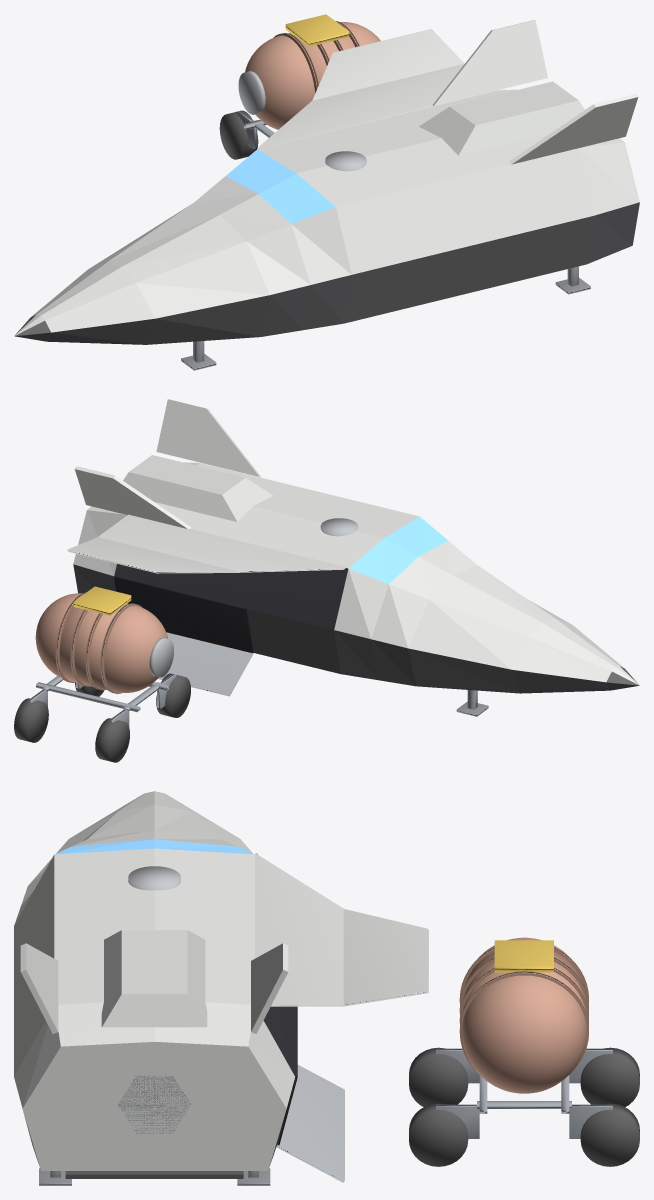
The model's file is b4s_rover_out.glb.
The picture shows the model from 3 angles, top to bottom: view 1: azimuth 30°, elevation 25°; view 2: azimuth 150°, elevation 25°; view 3: azimuth 270°, elevation 25°; orthographic projection. The views are drawn at different scales.
Visible parts, largest first — view 1: hull, belly_tps, kit_pod, wing_in_stbd, wing_out_stbd, fin_stbd, rover_capsule_head_0, glazing, fin_port, pod_cooler, pod_wheel_fwd_stbd, pod_hatch (+2 smaller); view 2: hull, belly_tps, opening_up, wing_in_stbd, kit_pod, opening_low, fin_port, rover_capsule_head_0, door_ramp_open, glazing, fin_stbd, wing_out_stbd (+9 smaller); view 3: hull, rover_capsule_head_1, kit_pod, wing_in_stbd, wing_out_stbd, door_ramp_open, pod_wheel_aft_stbd, pod_wheel_aft_port, pod_wheel_fwd_stbd, pod_wheel_fwd_port, fin_port, fin_stbd (+11 smaller).
Boxes of the visible parts, <box> form: hull: <box>14,89,639,335</box>; belly_tps: <box>14,202,639,344</box>; kit_pod: <box>419,81,584,155</box>; wing_in_stbd: <box>257,63,498,149</box>; wing_out_stbd: <box>312,29,464,100</box>; fin_stbd: <box>432,20,547,105</box>; rover_capsule_head_0: <box>245,35,315,129</box>; glazing: <box>226,149,335,223</box>; fin_port: <box>509,94,638,164</box>; pod_cooler: <box>285,14,349,46</box>; pod_wheel_fwd_stbd: <box>219,110,258,159</box>; pod_hatch: <box>238,71,265,114</box>; hull: <box>73,462,638,684</box>; belly_tps: <box>73,564,639,693</box>; opening_up: <box>114,564,348,629</box>; wing_in_stbd: <box>98,514,348,572</box>; kit_pod: <box>123,455,273,521</box>; opening_low: <box>114,576,253,653</box>; fin_port: <box>156,399,261,477</box>; rover_capsule_head_0: <box>104,605,167,692</box>; door_ramp_open: <box>158,632,253,696</box>; glazing: <box>349,516,447,583</box>; fin_stbd: <box>74,466,191,528</box>; wing_out_stbd: <box>67,537,235,573</box>; hull: <box>14,791,294,1170</box>; rover_capsule_head_1: <box>462,975,586,1093</box>; kit_pod: <box>101,930,207,1027</box>; wing_in_stbd: <box>255,853,343,1006</box>; wing_out_stbd: <box>343,909,428,1006</box>; door_ramp_open: <box>276,1065,344,1182</box>; pod_wheel_aft_stbd: <box>580,1103,639,1166</box>; pod_wheel_aft_port: <box>409,1103,468,1166</box>; pod_wheel_fwd_stbd: <box>580,1047,639,1106</box>; pod_wheel_fwd_port: <box>409,1047,468,1106</box>; fin_port: <box>20,943,58,1033</box>; fin_stbd: <box>251,943,288,1034</box>.
Size of the model in its own units: 12.8 by 4.05 by 9.48.
